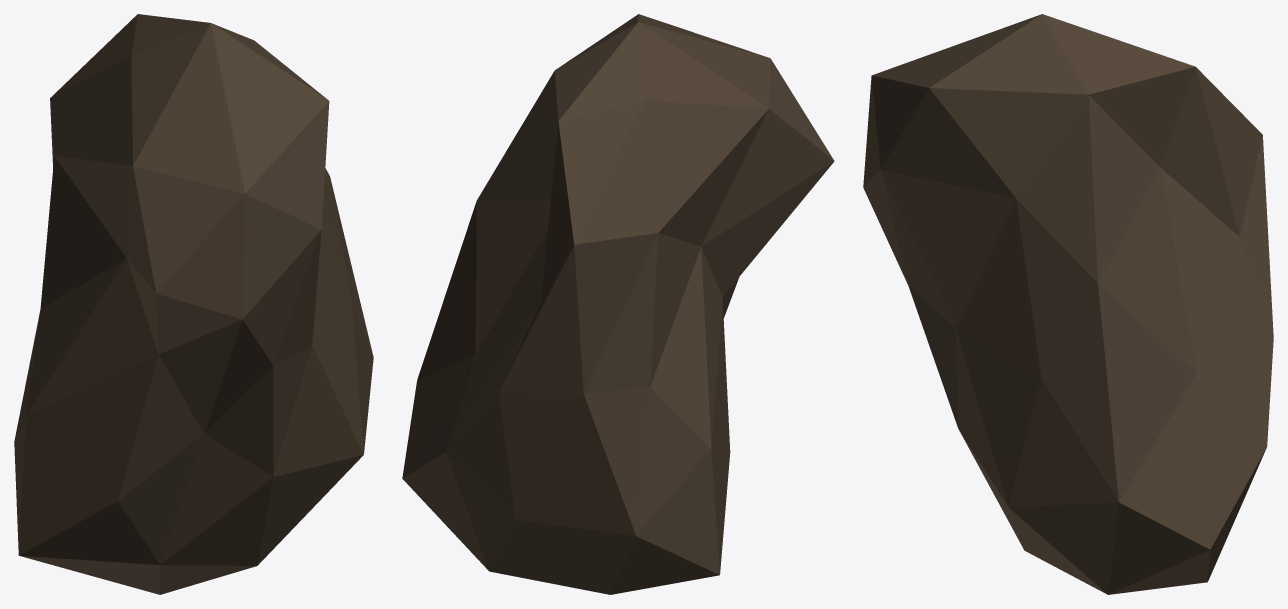
File: Asteroid.fbx
3 renders of one model, left to right at view 1: azimuth 30°, elevation 25°; view 2: azimuth 150°, elevation 25°; view 3: azimuth 270°, elevation 25°, orthographic. The views are drawn at different scales.
Parts seen in each view (by area): view 1: Asteroid; view 2: Asteroid; view 3: Asteroid.
Part boxes in pixels (x1,y1,x2,y2): Asteroid: (14,14,373,594); Asteroid: (402,14,834,594); Asteroid: (863,14,1273,594).
Bounding box in the file's own units: 54.32 × 58.94 × 89.77.
